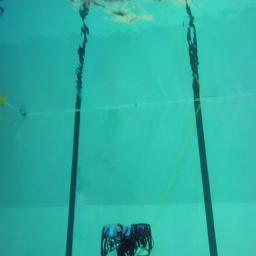front: (100, 222, 154, 256)
